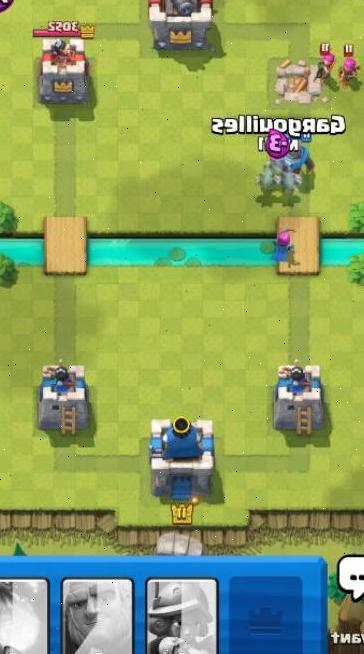enemy_archers: (337, 46, 364, 84), (313, 44, 337, 80)
player_archers: (266, 225, 300, 263)
player_knight: (283, 138, 318, 175)
